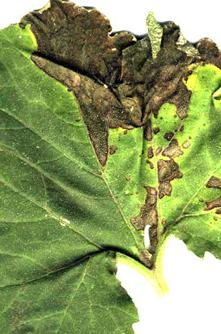Tomato leaf bacterial spot: (24, 0, 221, 270)
